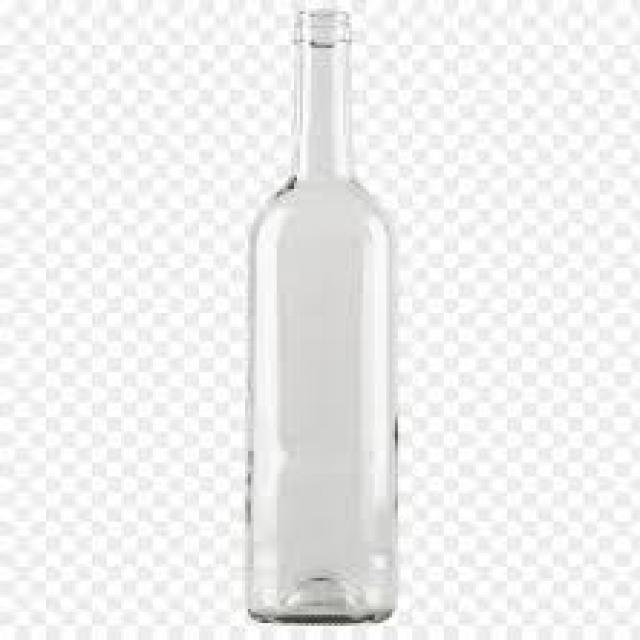Glass-Non-Biodegradable but Recyclable-: (246, 11, 398, 626)
